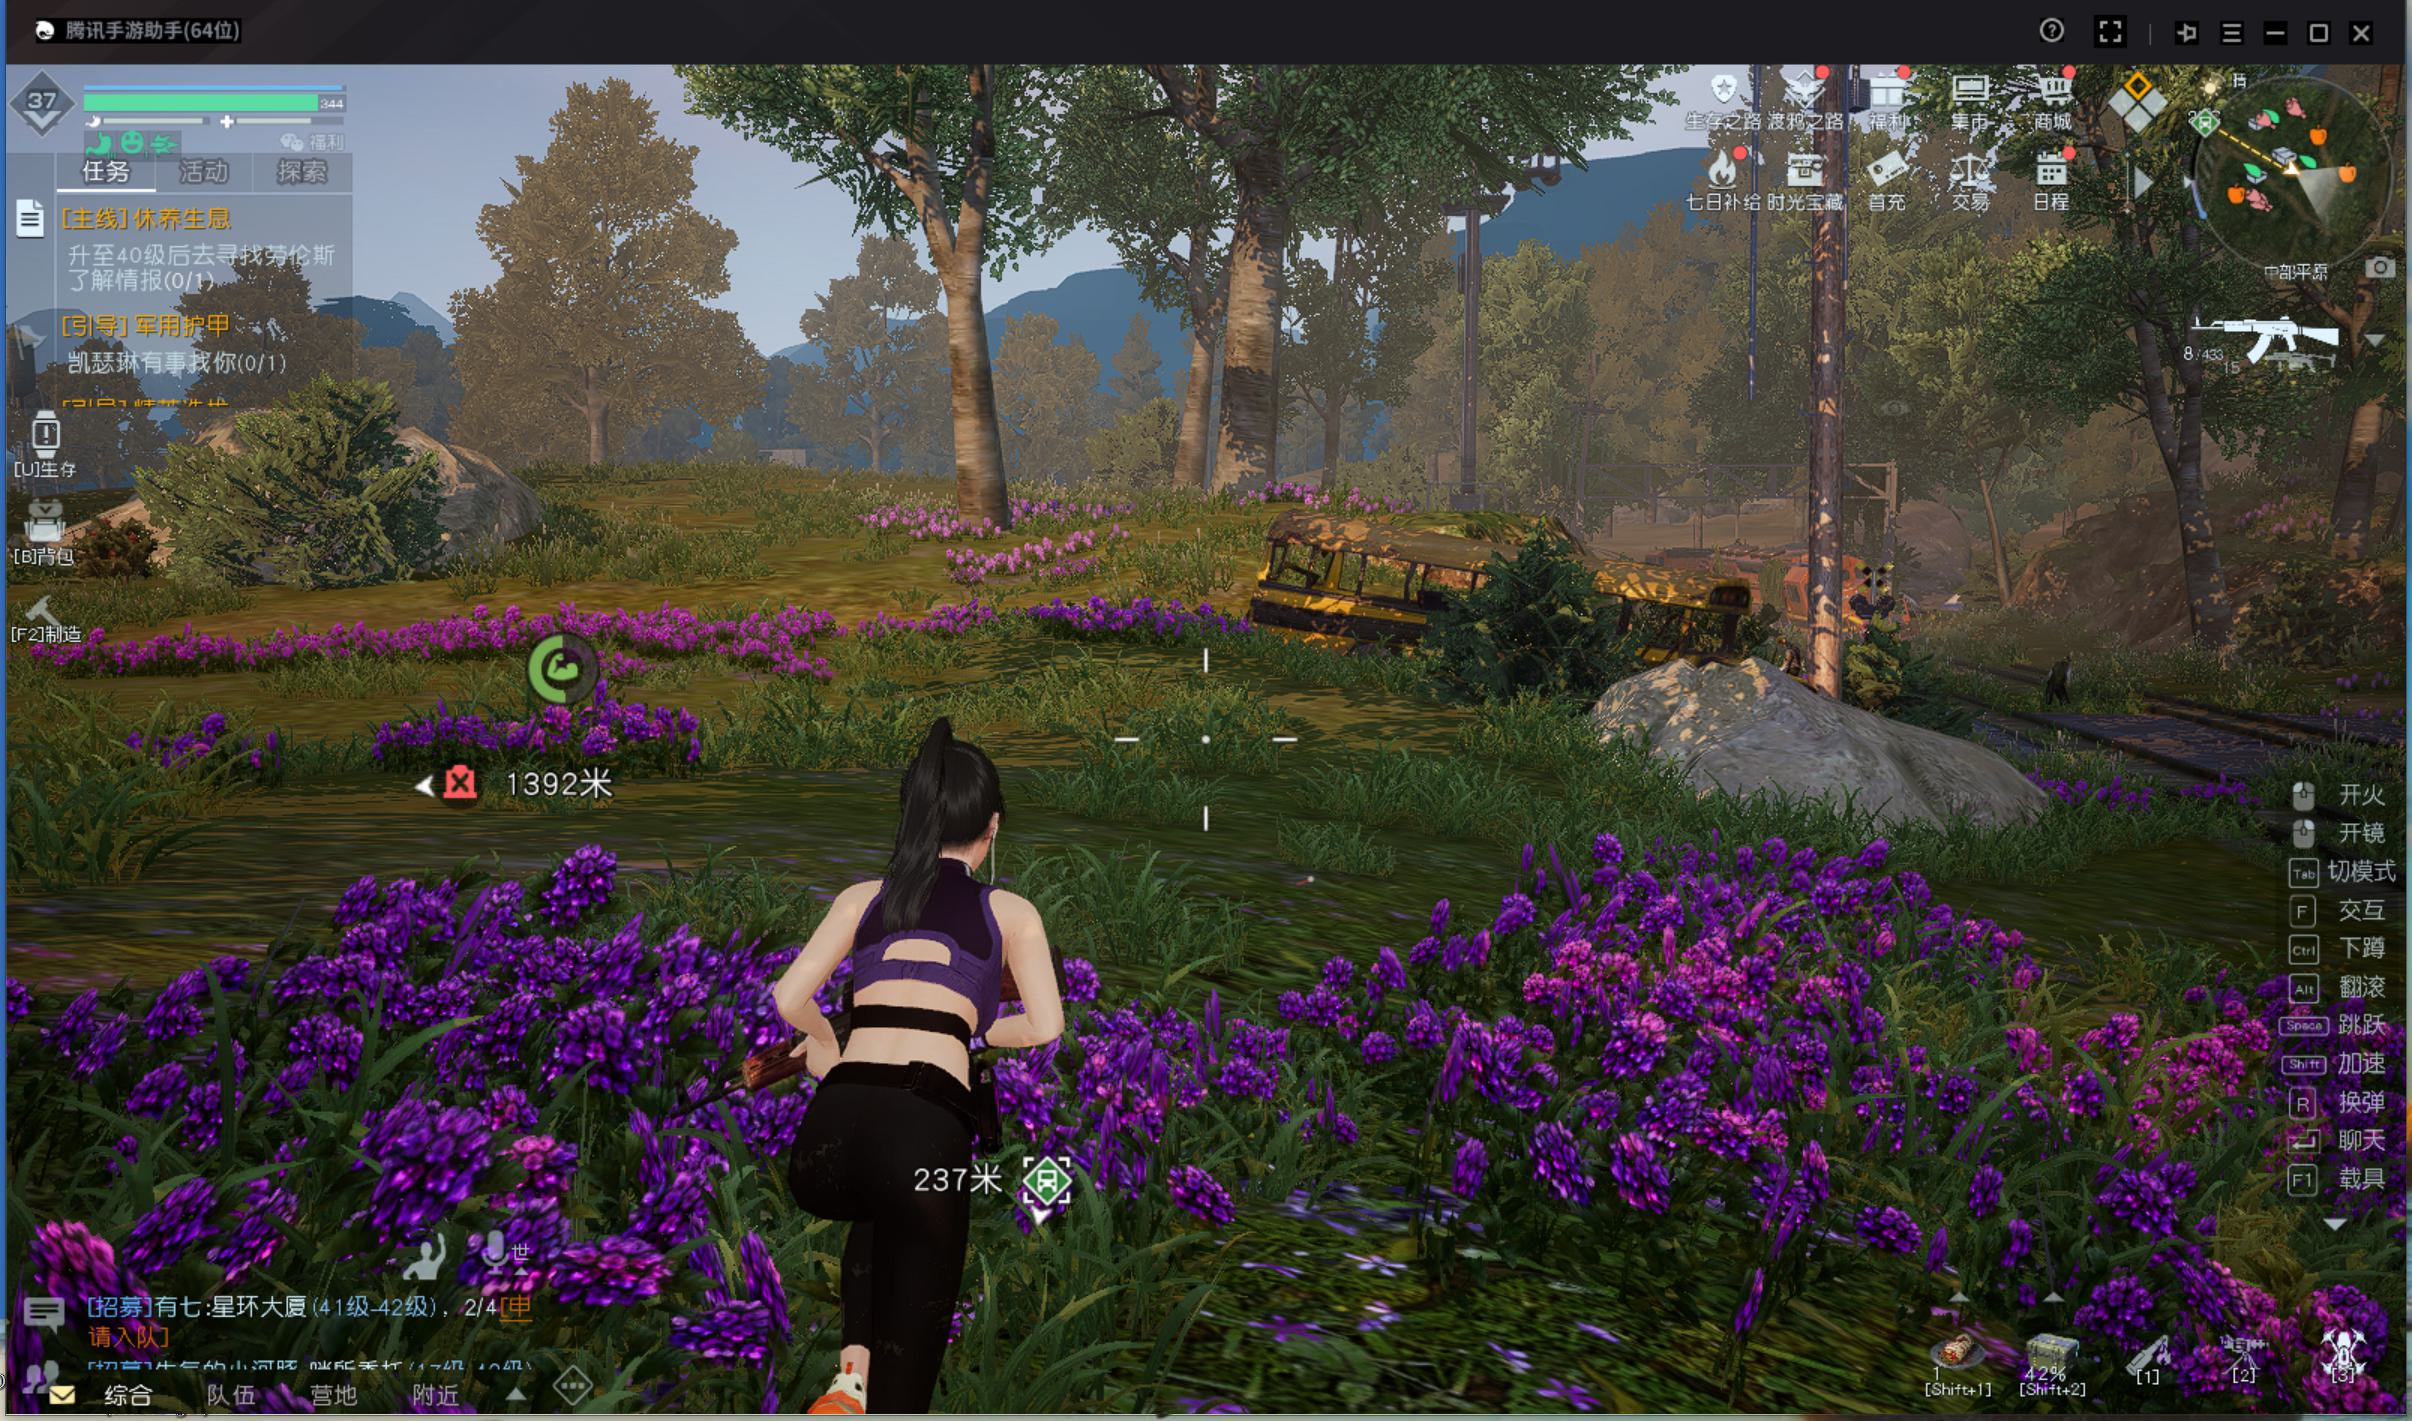tree: (918, 254, 1015, 557), (2140, 413, 2256, 660), (1230, 217, 1287, 513), (1165, 296, 1211, 506), (582, 365, 619, 475)
